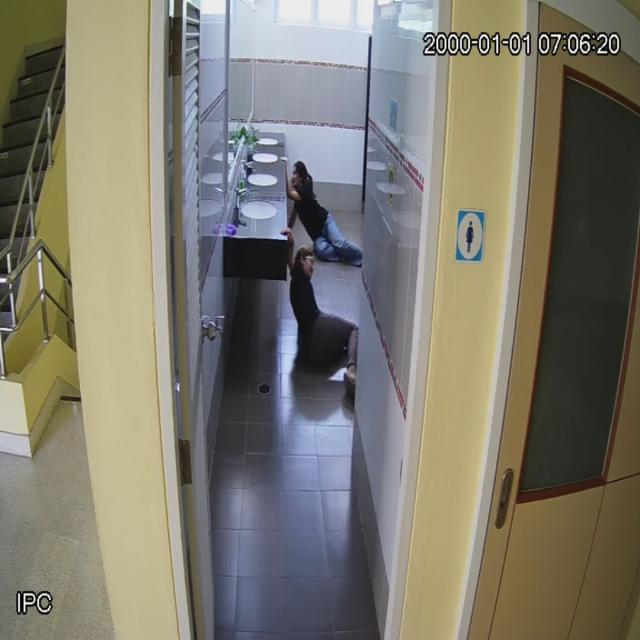fall: (283, 229, 359, 407), (288, 162, 362, 258)
